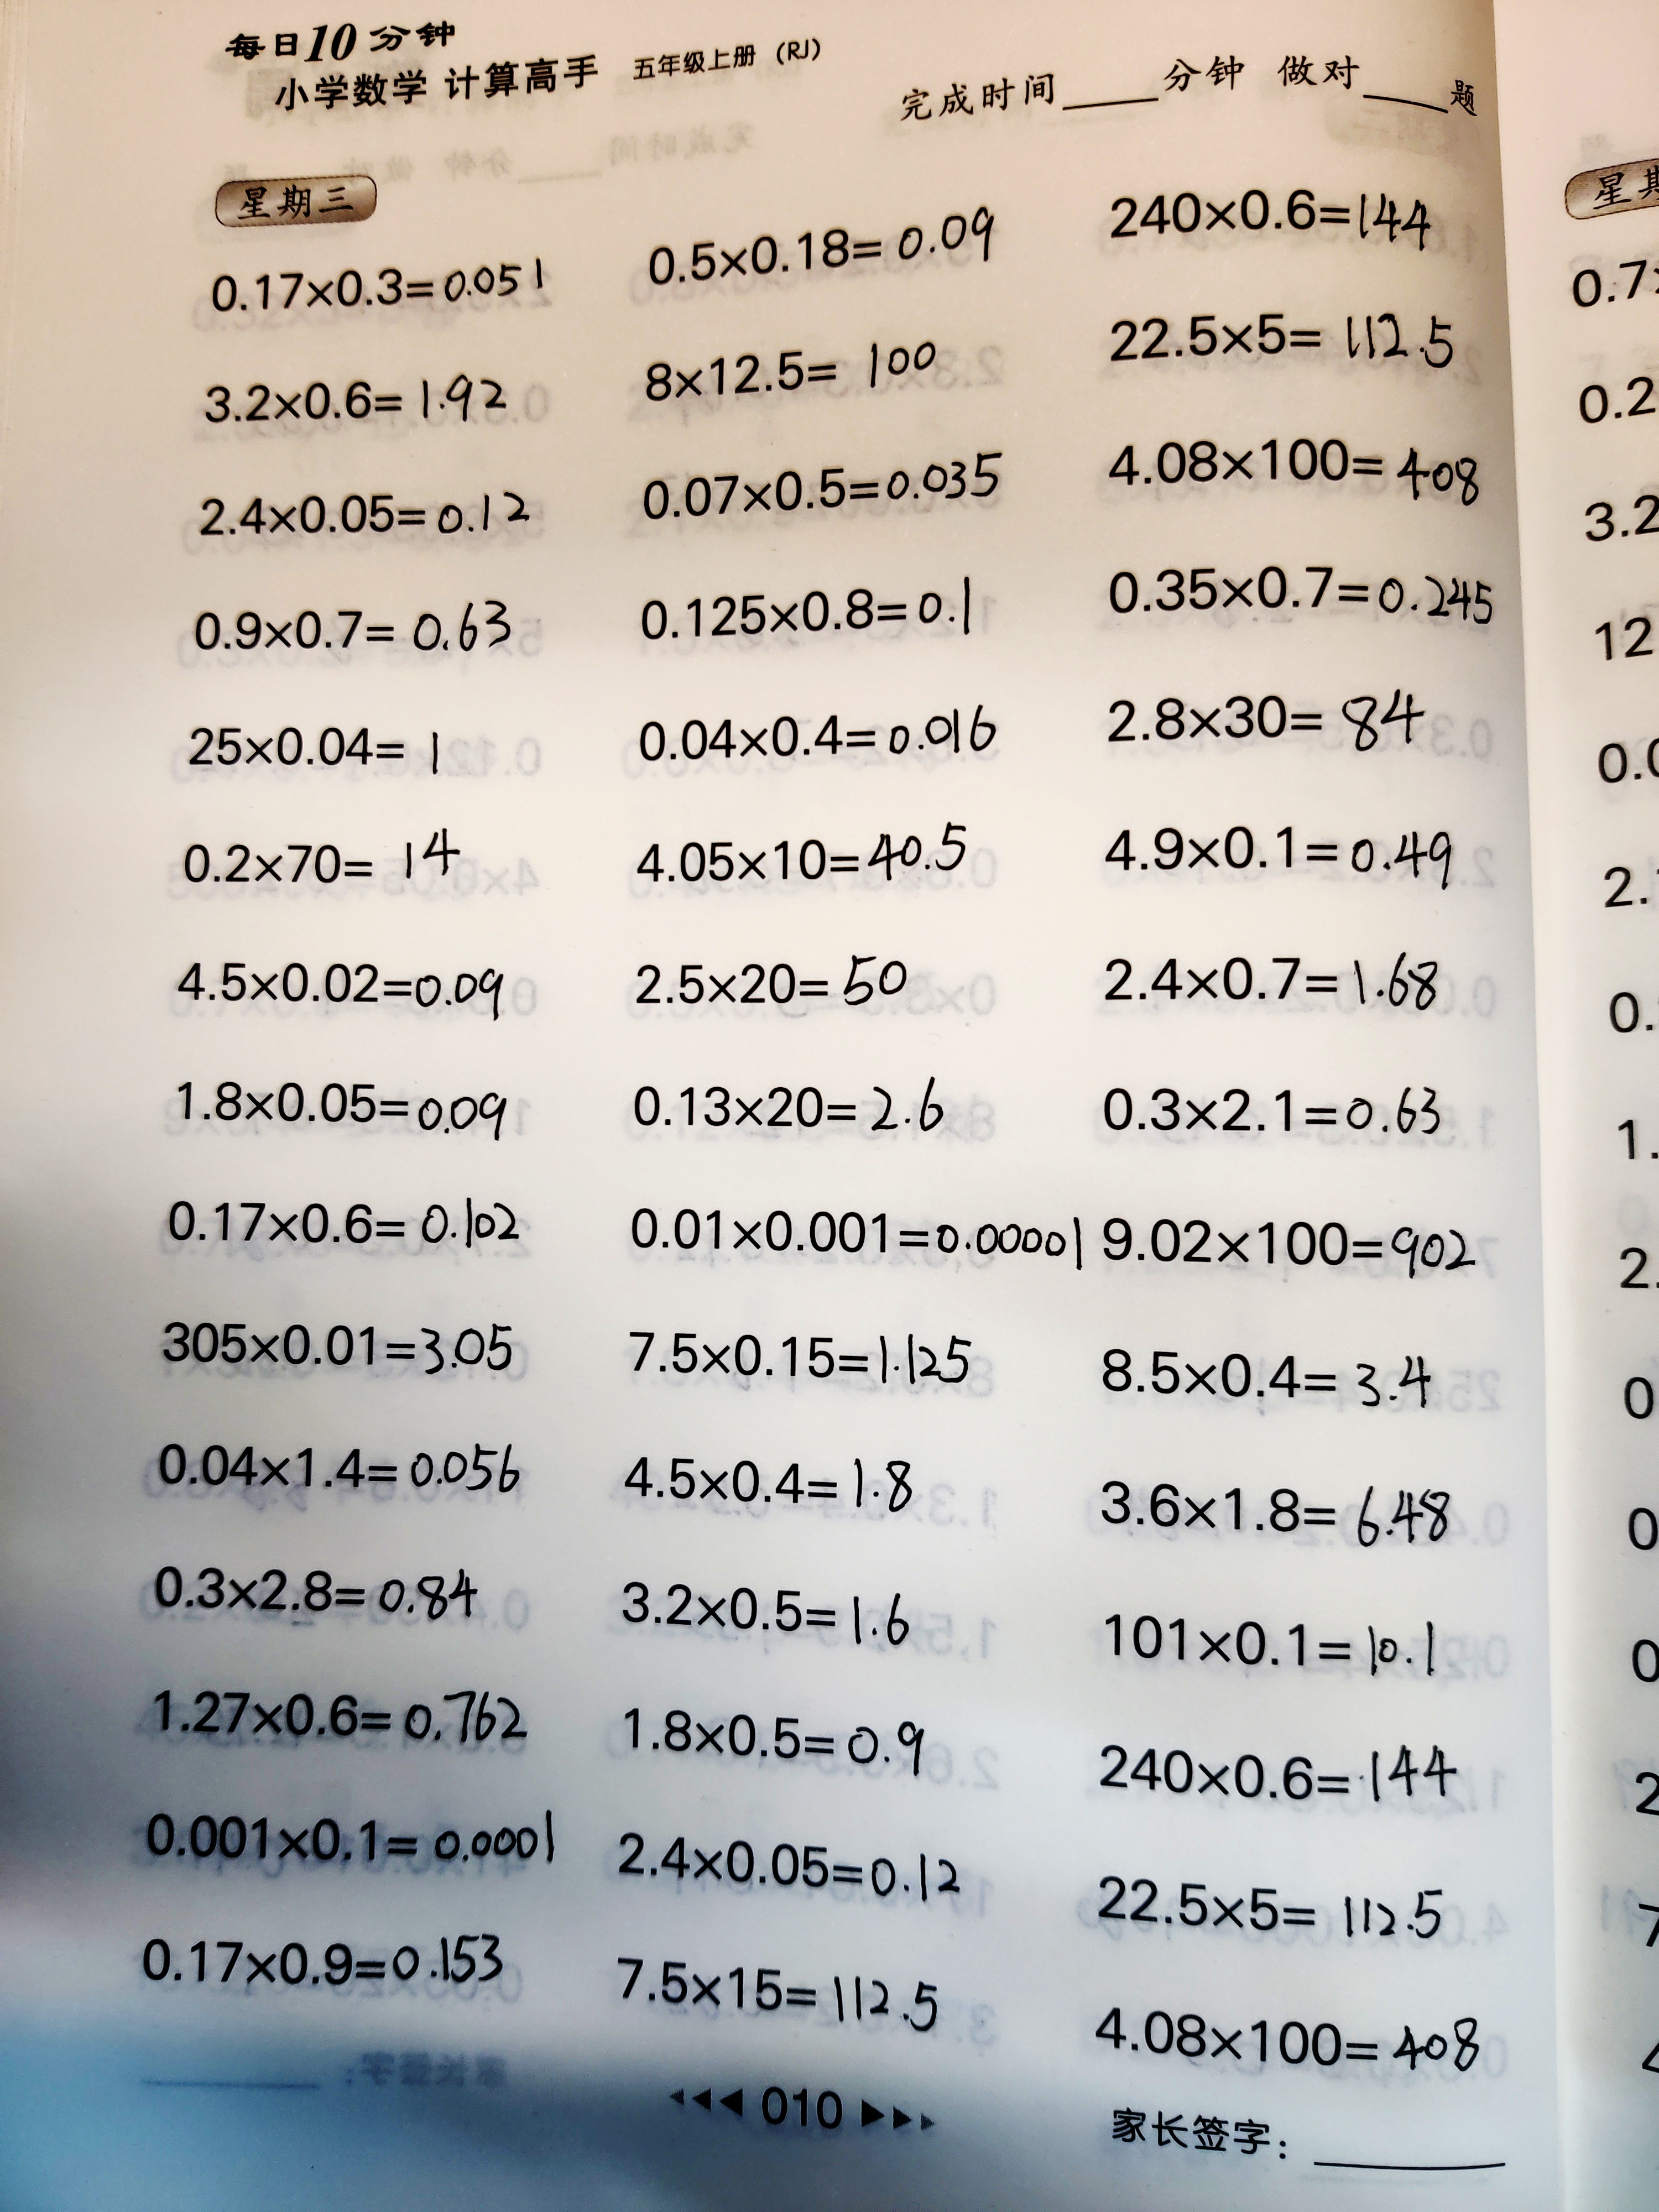equation: (617, 1188, 1093, 1289), (1082, 1846, 1455, 1973), (1082, 930, 1459, 1043), (1094, 423, 1481, 531), (145, 1176, 533, 1282), (1082, 803, 1469, 909), (131, 1796, 566, 1888), (1086, 1724, 1460, 1831), (610, 808, 978, 916), (157, 930, 512, 1038), (1082, 1993, 1486, 2087), (1089, 550, 1497, 643), (606, 449, 1012, 542), (132, 1421, 530, 1515), (598, 1822, 972, 1921), (179, 590, 516, 700), (603, 1942, 939, 2052), (1094, 665, 1424, 772), (1093, 1599, 1453, 1695), (1100, 165, 1441, 266), (193, 334, 518, 441), (1086, 1465, 1466, 1555), (605, 1688, 939, 1791), (1101, 1200, 1486, 1289), (617, 1428, 922, 1538), (617, 1310, 972, 1404), (136, 1916, 511, 2005), (138, 1674, 535, 1757), (143, 1313, 533, 1397), (1080, 1068, 1452, 1155), (615, 568, 983, 653), (603, 1569, 934, 1663), (622, 322, 950, 416), (638, 207, 1012, 289), (136, 1541, 481, 1630), (1082, 1341, 1455, 1423), (619, 700, 1009, 777), (173, 1073, 518, 1157), (1098, 308, 1469, 385), (617, 1061, 950, 1146), (166, 822, 460, 916), (617, 942, 920, 1033), (176, 479, 540, 550), (186, 251, 563, 312), (179, 714, 451, 798)
